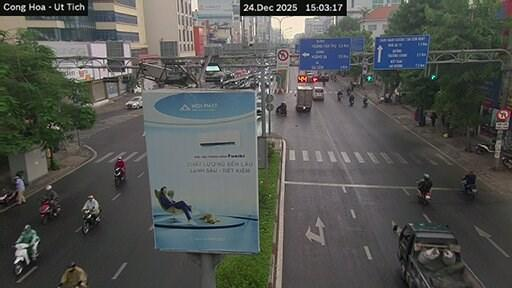motorbike: (13, 243, 37, 275), (39, 199, 59, 224), (81, 209, 99, 234), (460, 181, 477, 199), (475, 139, 495, 154), (0, 188, 17, 204), (417, 188, 430, 204), (114, 167, 124, 186), (502, 153, 511, 167), (276, 105, 286, 116), (276, 109, 286, 116), (337, 93, 342, 101), (349, 98, 353, 106), (363, 99, 367, 107)
